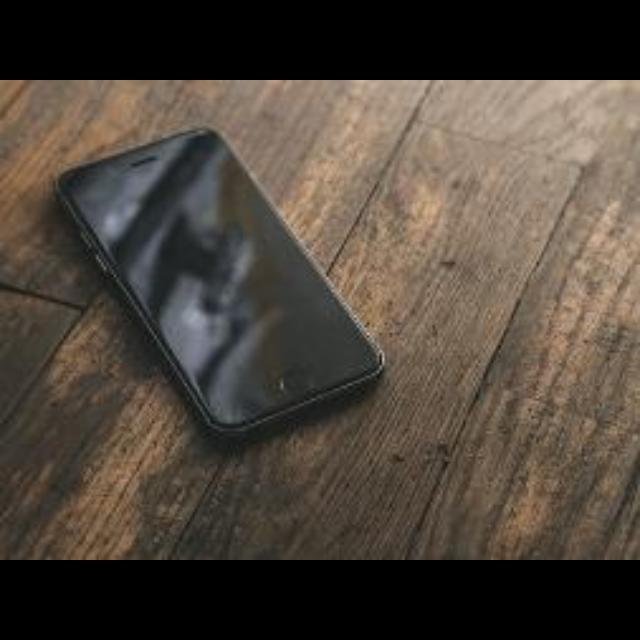Phone: (52, 128, 388, 452)
